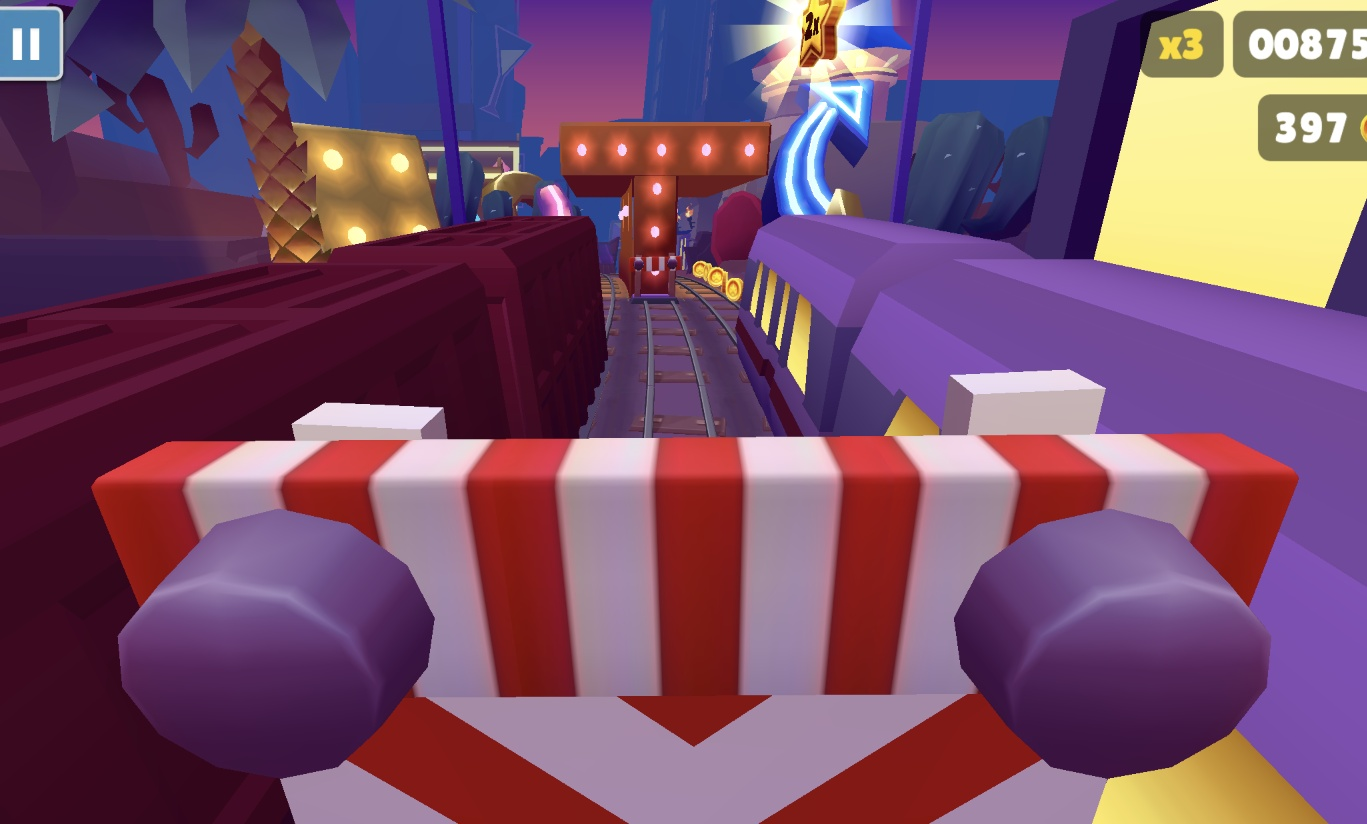ground_barrier: (626, 254, 683, 307)
overhead_barrier: (92, 371, 1300, 824)
pillar: (620, 176, 680, 297)
train: (740, 211, 1367, 824), (0, 214, 606, 824)
